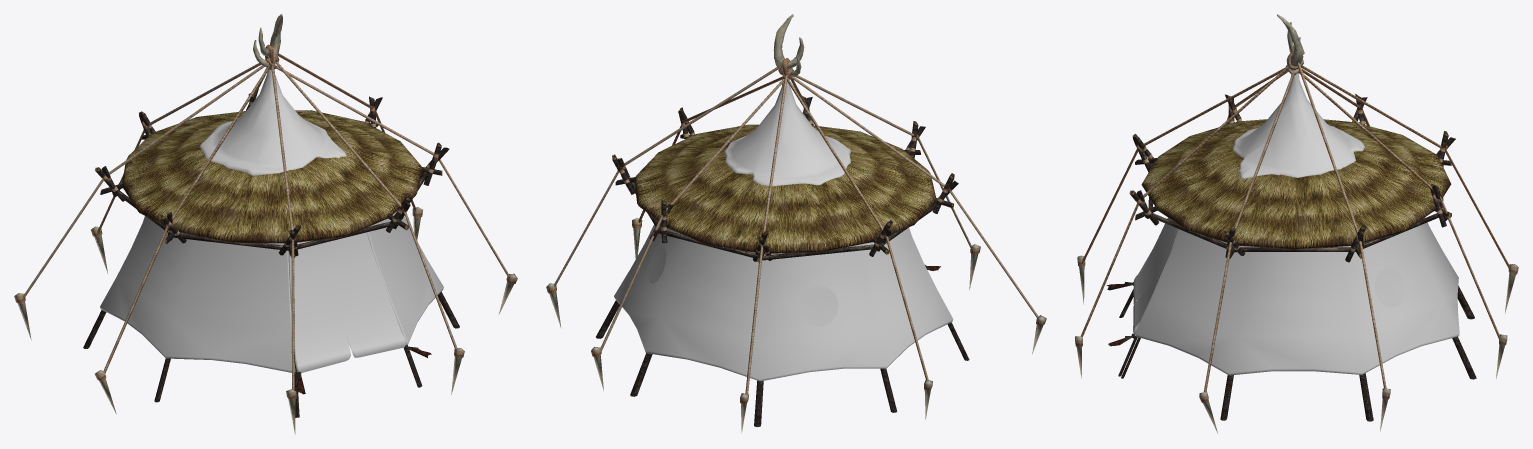
The model's file is tent.fbx.
The picture shows the model from 3 angles, left to right: view 1: azimuth 30°, elevation 25°; view 2: azimuth 150°, elevation 25°; view 3: azimuth 270°, elevation 25°; orthographic projection.
Visible parts, largest first — view 1: LOD_1_Group_0_Sub_3__com_tent00_01, LOD_1_Group_0_Sub_5__com_tent00_03_Dissolve_Transparent, LOD_1_Group_0_Sub_8__com_tent00_02_Dissolve_Transparent, LOD_1_Group_0_Sub_2__com_tent00_07_Dissolve_Transparent, LOD_1_Group_0_Sub_6__com_tent00_04_Dissolve_Transparent, LOD_1_Group_0_Sub_1__com_tent00_06_Dissolve_Transparent, LOD_1_Group_0_Sub_7__com_tent00_08_Dissolve_Transparent; view 2: LOD_1_Group_0_Sub_3__com_tent00_01, LOD_1_Group_0_Sub_5__com_tent00_03_Dissolve_Transparent, LOD_1_Group_0_Sub_2__com_tent00_07_Dissolve_Transparent, LOD_1_Group_0_Sub_6__com_tent00_04_Dissolve_Transparent, LOD_1_Group_0_Sub_1__com_tent00_06_Dissolve_Transparent, LOD_1_Group_0_Sub_7__com_tent00_08_Dissolve_Transparent; view 3: LOD_1_Group_0_Sub_3__com_tent00_01, LOD_1_Group_0_Sub_5__com_tent00_03_Dissolve_Transparent, LOD_1_Group_0_Sub_2__com_tent00_07_Dissolve_Transparent, LOD_1_Group_0_Sub_6__com_tent00_04_Dissolve_Transparent, LOD_1_Group_0_Sub_1__com_tent00_06_Dissolve_Transparent, LOD_1_Group_0_Sub_8__com_tent00_02_Dissolve_Transparent, LOD_1_Group_0_Sub_7__com_tent00_08_Dissolve_Transparent.
Part boxes in pixels (x1,y1,x2,y2): LOD_1_Group_0_Sub_3__com_tent00_01: (100,210,443,372); LOD_1_Group_0_Sub_5__com_tent00_03_Dissolve_Transparent: (122,110,422,243); LOD_1_Group_0_Sub_8__com_tent00_02_Dissolve_Transparent: (288,232,406,372); LOD_1_Group_0_Sub_2__com_tent00_07_Dissolve_Transparent: (14,44,517,399); LOD_1_Group_0_Sub_6__com_tent00_04_Dissolve_Transparent: (199,69,346,175); LOD_1_Group_0_Sub_1__com_tent00_06_Dissolve_Transparent: (83,89,459,417); LOD_1_Group_0_Sub_7__com_tent00_08_Dissolve_Transparent: (14,14,517,434); LOD_1_Group_0_Sub_3__com_tent00_01: (614,220,953,381); LOD_1_Group_0_Sub_5__com_tent00_03_Dissolve_Transparent: (634,124,936,253); LOD_1_Group_0_Sub_2__com_tent00_07_Dissolve_Transparent: (546,58,1046,404); LOD_1_Group_0_Sub_6__com_tent00_04_Dissolve_Transparent: (724,74,851,186); LOD_1_Group_0_Sub_1__com_tent00_06_Dissolve_Transparent: (596,96,969,426); LOD_1_Group_0_Sub_7__com_tent00_08_Dissolve_Transparent: (546,14,1046,433); LOD_1_Group_0_Sub_3__com_tent00_01: (1135,217,1459,375); LOD_1_Group_0_Sub_5__com_tent00_03_Dissolve_Transparent: (1141,119,1451,249); LOD_1_Group_0_Sub_2__com_tent00_07_Dissolve_Transparent: (1075,52,1518,402); LOD_1_Group_0_Sub_6__com_tent00_04_Dissolve_Transparent: (1232,69,1364,178); LOD_1_Group_0_Sub_1__com_tent00_06_Dissolve_Transparent: (1118,94,1476,421); LOD_1_Group_0_Sub_8__com_tent00_02_Dissolve_Transparent: (1133,217,1178,335); LOD_1_Group_0_Sub_7__com_tent00_08_Dissolve_Transparent: (1075,14,1518,433).
Bounding box in the file's own units: 1683 × 1276 × 1534.
